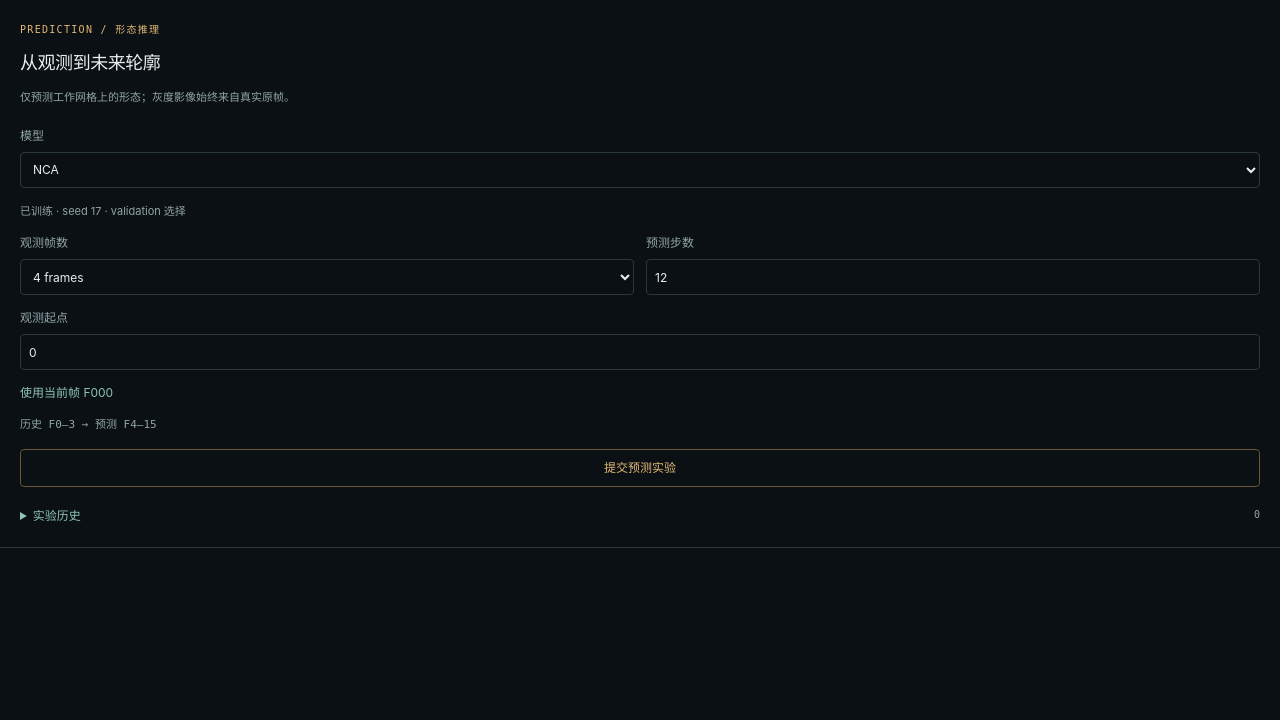
Test case: submits history parameters and loads a successful saved result
Click the button "提交预测实验" at (640, 468), box [20,449,1260,487]
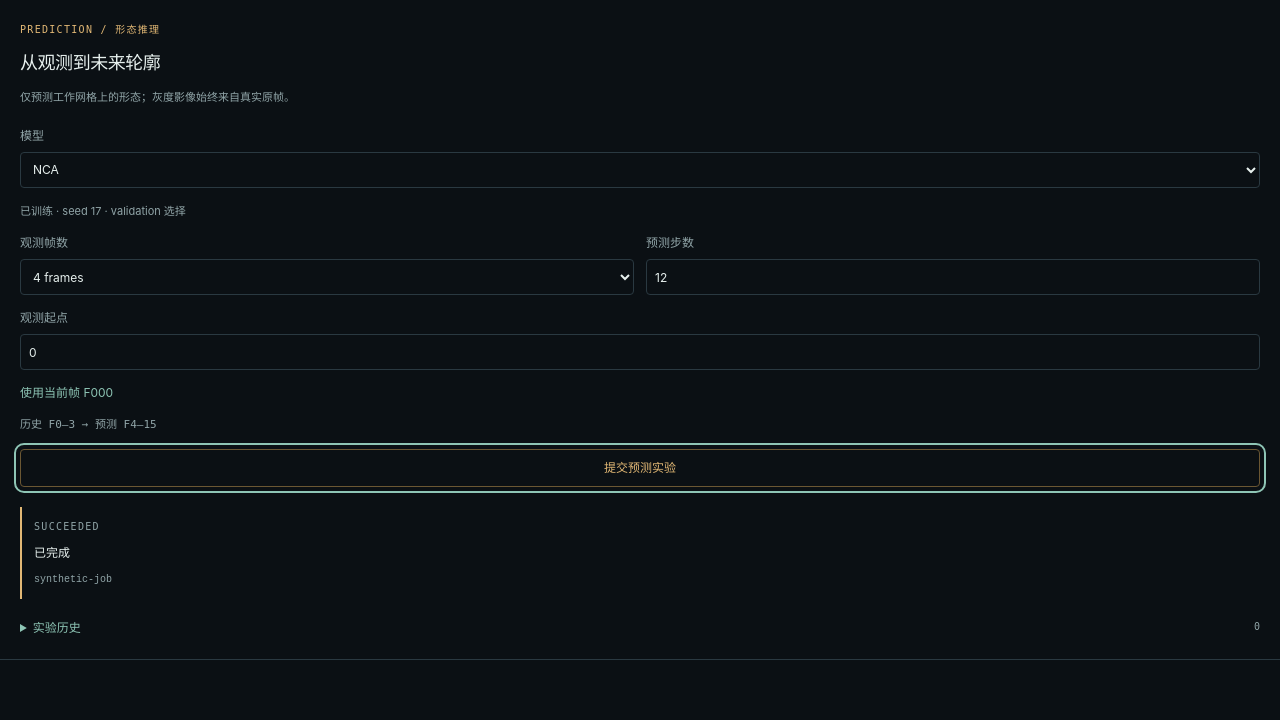
Result: the text "已完成" is shown at [34,545,70,560]
